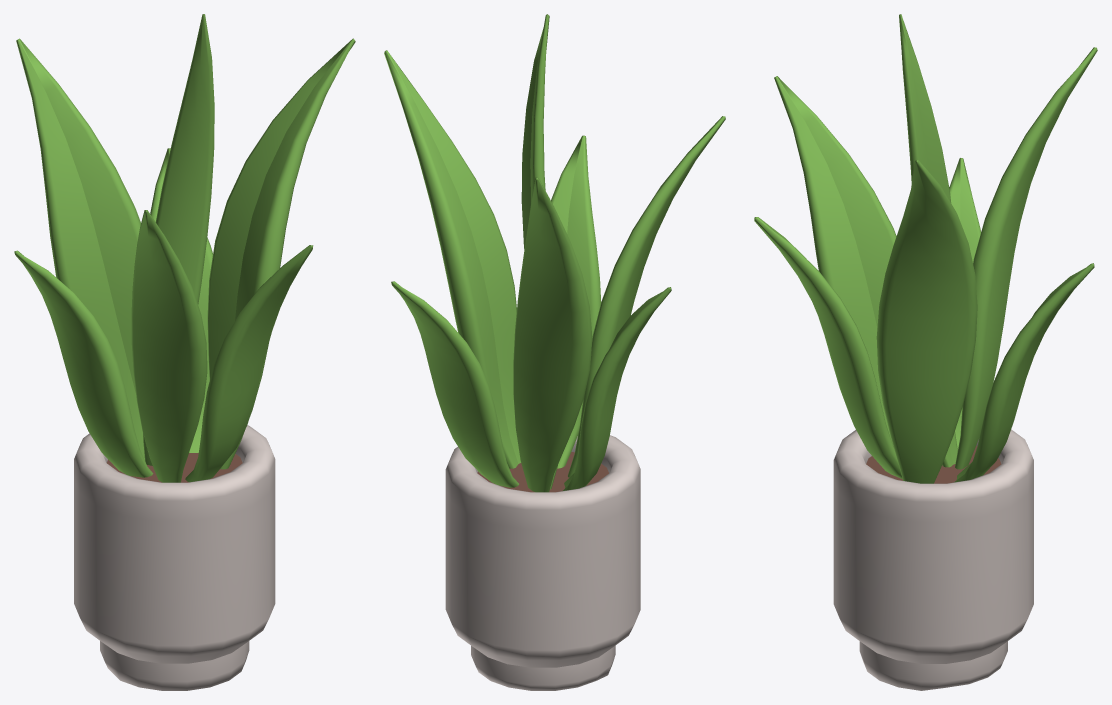
File: Plant.fbx
3 views of the same model, side by side, from view 1: azimuth 30°, elevation 25°; view 2: azimuth 150°, elevation 25°; view 3: azimuth 270°, elevation 25° (orthographic). The views are drawn at different scales.
Visible parts, largest first — view 1: Plant; view 2: Plant; view 3: Plant.
Boxes of the visible parts, <box> form: Plant: <box>14,14,355,690</box>; Plant: <box>384,14,725,690</box>; Plant: <box>754,14,1097,690</box>.
Bounding box in the file's own units: 121 × 237 × 113.
